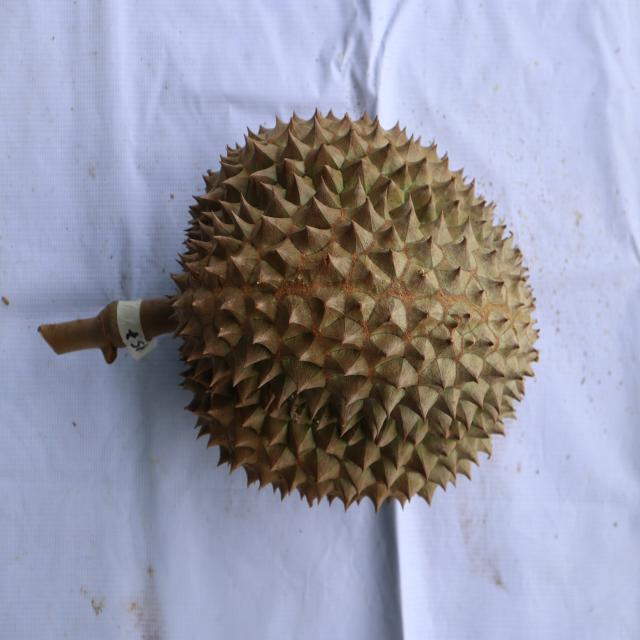mature: (168, 102, 538, 512)
